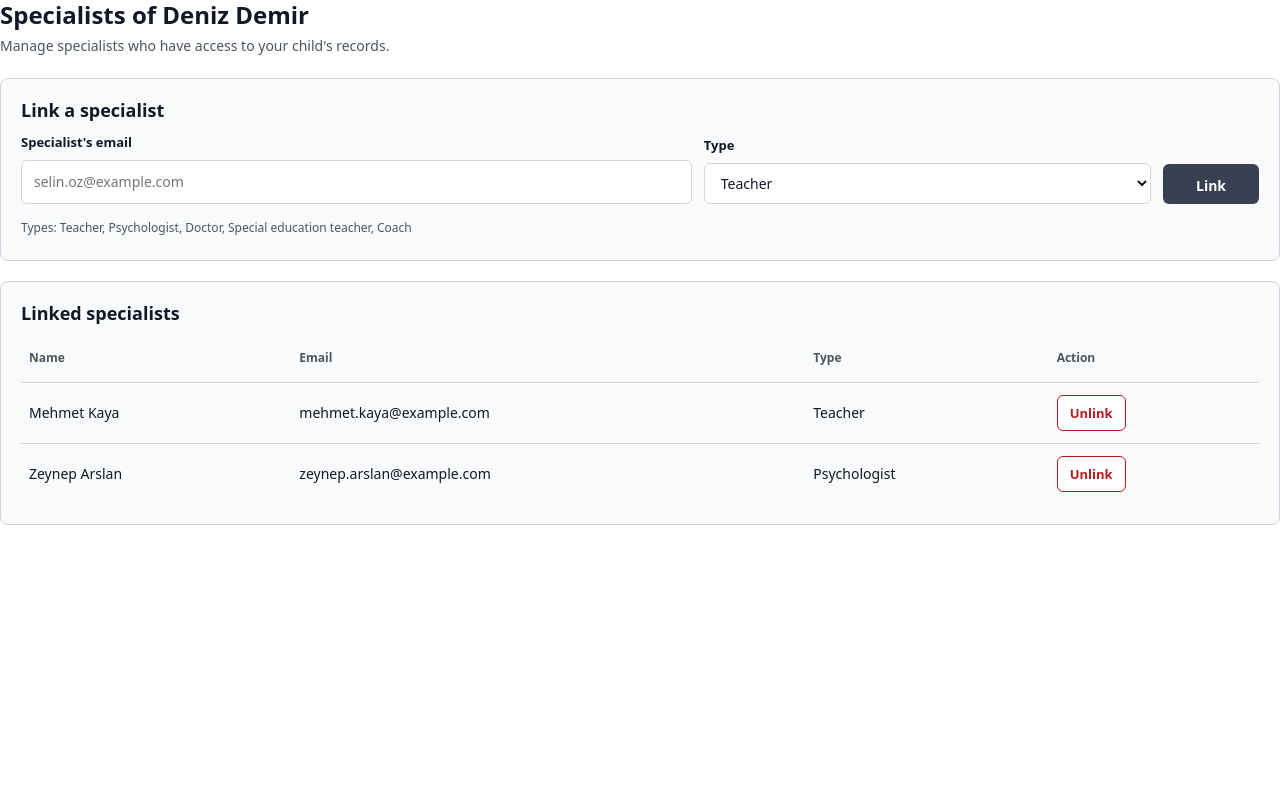
Test: ParentSpecialistsPage (FR-M2-01..04) › asks for confirmation before unlinking and removes the specialist when confirmed (FR-M2-04)
Expected: the text "Zeynep Arslan" is shown, [21,443,291,504]
Click the button with aria-label "Unlink Zeynep Arslan": (1091, 474) [1057,456,1126,492]
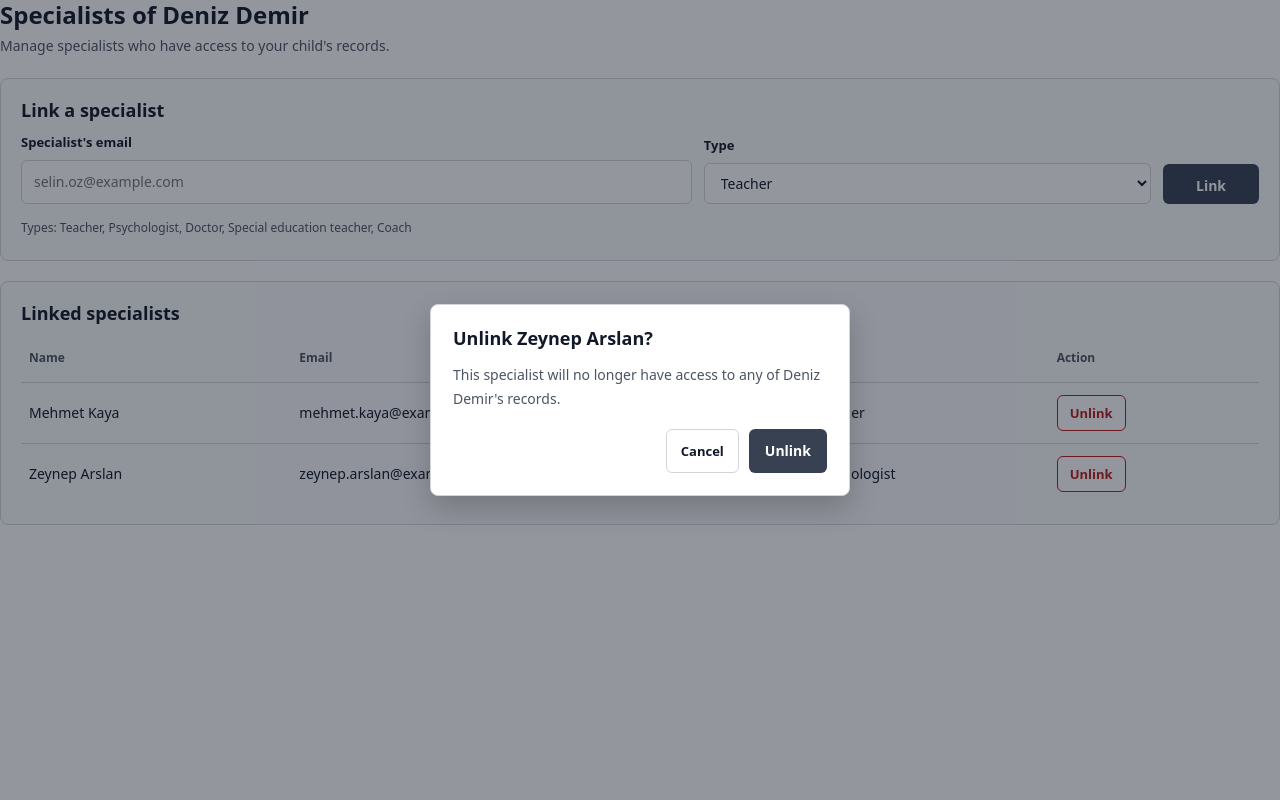
Expected: the dialog is shown, [430,304,850,496]
Expected: the heading "Unlink Zeynep Arslan?" is shown, [453,326,653,350]
Expected: the text "This specialist will no longer have access to any of Deniz Demir's records." is shown, [453,363,827,411]
// Cancelling closes the dialog and preserves the specialist row
Click the button "Cancel": (702, 451) [666,429,739,473]
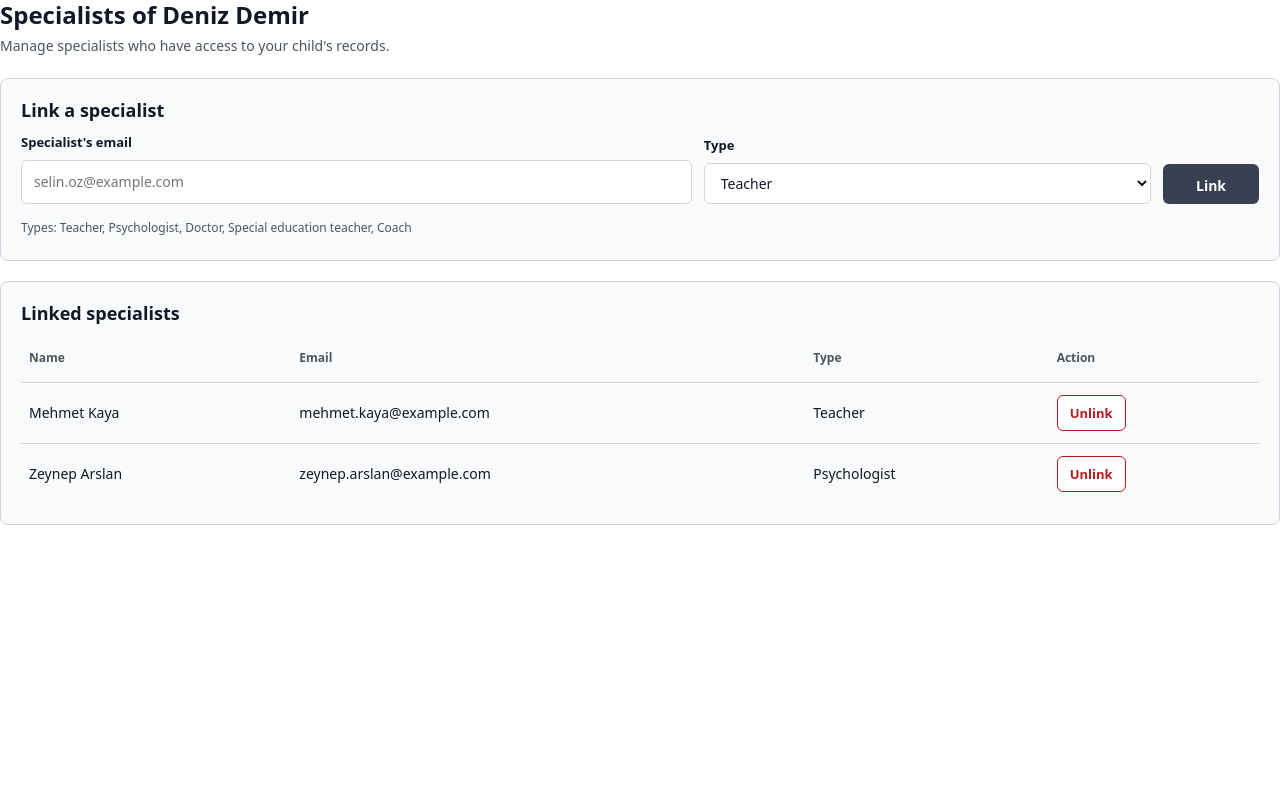
Expected: the text "Zeynep Arslan" is shown, [21,443,291,504]
Expected: the dialog is gone
Click the button with aria-label "Unlink Zeynep Arslan": (1091, 474) [1057,456,1126,492]
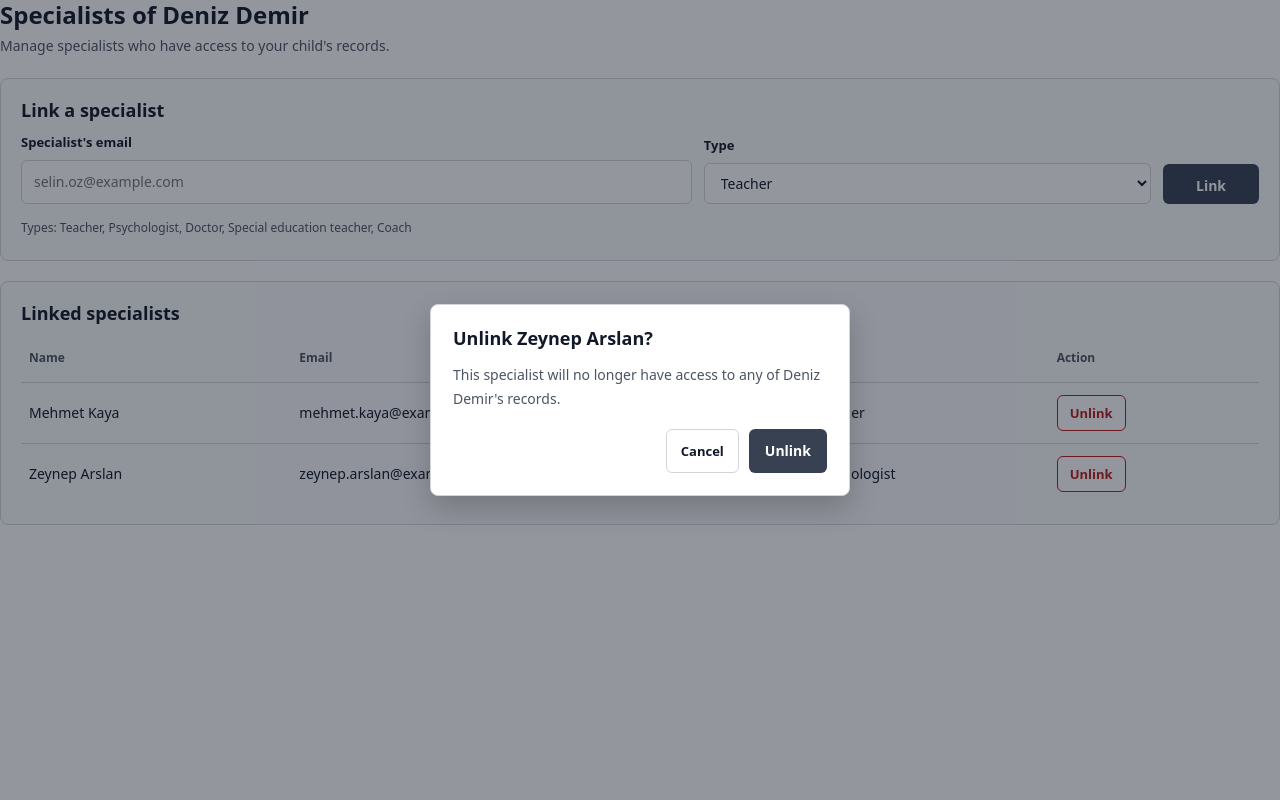
Click the button "Unlink": (788, 451) [749,429,827,473]
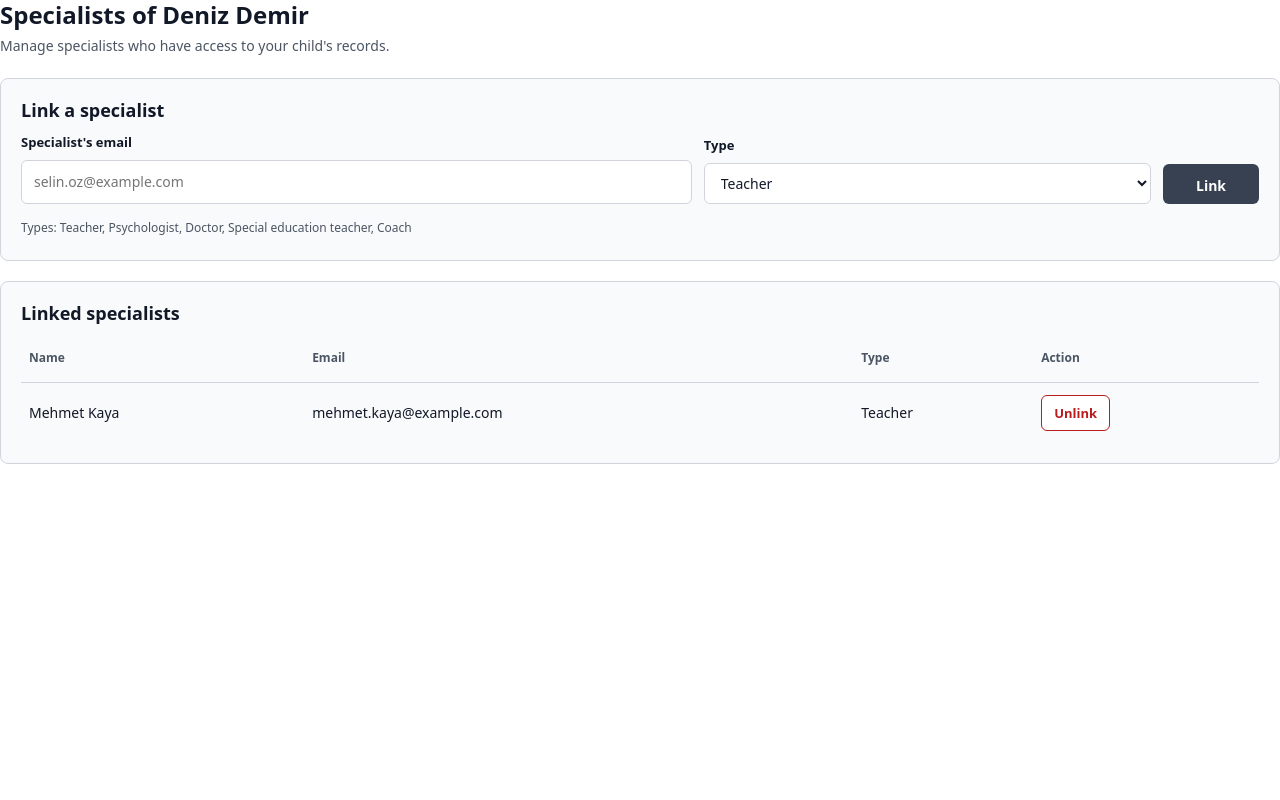
Expected: the text "Mehmet Kaya" is shown, [21,382,304,443]
Expected: the text "Zeynep Arslan" is gone
Expected: the dialog is gone
